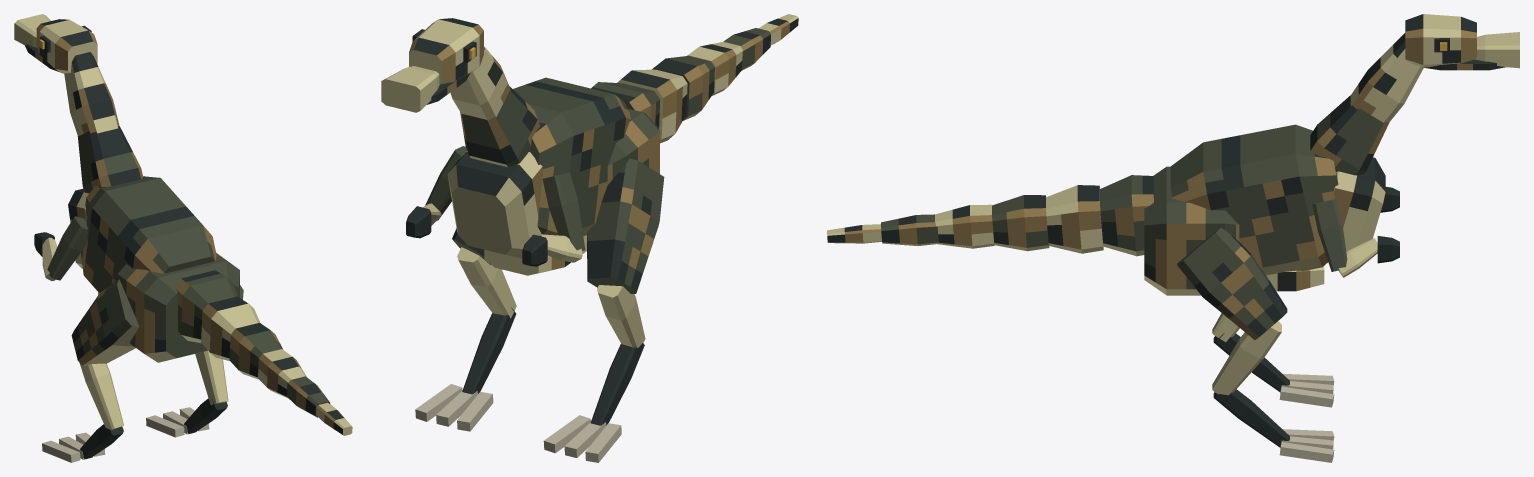
The model's file is Reedrunner.gltf.
3 views of the same model, side by side, from view 1: azimuth 30°, elevation 25°; view 2: azimuth 150°, elevation 25°; view 3: azimuth 270°, elevation 25° (orthographic). The views are drawn at different scales.
Parts seen in each view (by area): view 1: Root, Hindleg-1, Head, UpperNeck, Neck, Tail0, Tail1, Forelimb-1, Tail2, Hindleg1_Ankle, Hindleg-1_Ankle, Hindleg-1_Knee (+4 smaller); view 2: Root, Hindleg-1, Head, Hindleg-1_Ankle, Hindleg1_Ankle, Neck, Forelimb-1, UpperNeck, Tail1, Hindleg1_Knee, Hindleg-1_Knee, Tail2 (+5 smaller); view 3: Root, Hindleg1, Head, Neck, Tail0, Tail1, UpperNeck, Hindleg1_Ankle, Forelimb1, Tail2, Hindleg-1_Ankle, Tail3 (+3 smaller).
Part boxes in pixels (x1,y1,x2,y2): Root: (68, 176, 239, 362); Hindleg-1: (71, 279, 139, 365); Head: (14, 14, 97, 73); UpperNeck: (64, 52, 119, 136); Neck: (77, 126, 142, 193); Tail0: (176, 270, 237, 343); Tail1: (201, 296, 260, 360); Forelimb-1: (34, 216, 88, 280); Tail2: (229, 322, 283, 379); Hindleg1_Ankle: (146, 398, 227, 437); Hindleg-1_Ankle: (42, 424, 123, 462); Hindleg-1_Knee: (79, 363, 123, 430); Root: (447, 77, 659, 275); Hindleg-1: (587, 158, 664, 293); Head: (381, 18, 483, 112); Hindleg-1_Ankle: (543, 343, 644, 462); Hindleg1_Ankle: (415, 307, 516, 431); Neck: (460, 86, 539, 167); Forelimb-1: (522, 172, 585, 266); UpperNeck: (450, 46, 510, 120); Tail1: (617, 69, 687, 143); Hindleg1_Knee: (457, 247, 516, 318); Hindleg-1_Knee: (597, 285, 645, 348); Tail2: (652, 56, 714, 120); Root: (1144, 124, 1385, 295); Hindleg1: (1177, 227, 1287, 339); Head: (1405, 14, 1519, 70); Neck: (1310, 95, 1389, 175); Tail0: (1100, 175, 1153, 256); Tail1: (1046, 185, 1103, 253); UpperNeck: (1350, 33, 1423, 122); Hindleg1_Ankle: (1213, 389, 1334, 462); Forelimb1: (1312, 199, 1399, 277); Tail2: (992, 195, 1049, 251); Hindleg-1_Ankle: (1213, 333, 1334, 407); Tail3: (935, 204, 994, 248).
Bounding box in the file's own units: 1.82 × 4.34 × 6.77.
Materials: 1 (1 with a texture image).
